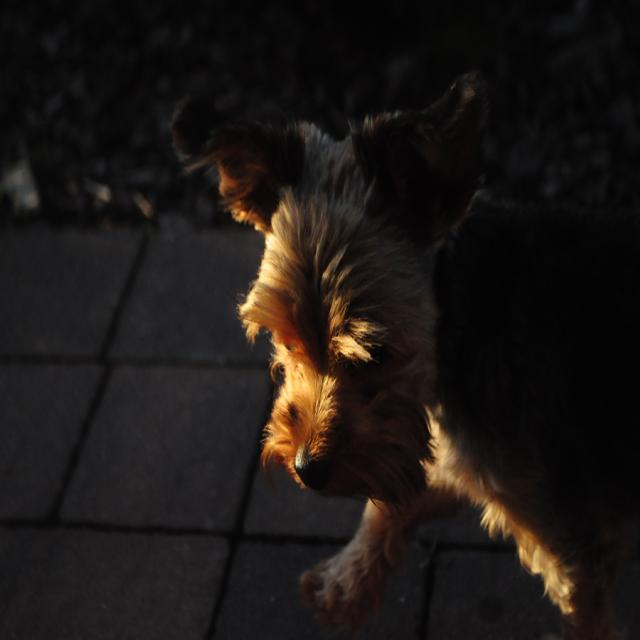Dog: (181, 56, 621, 586)
